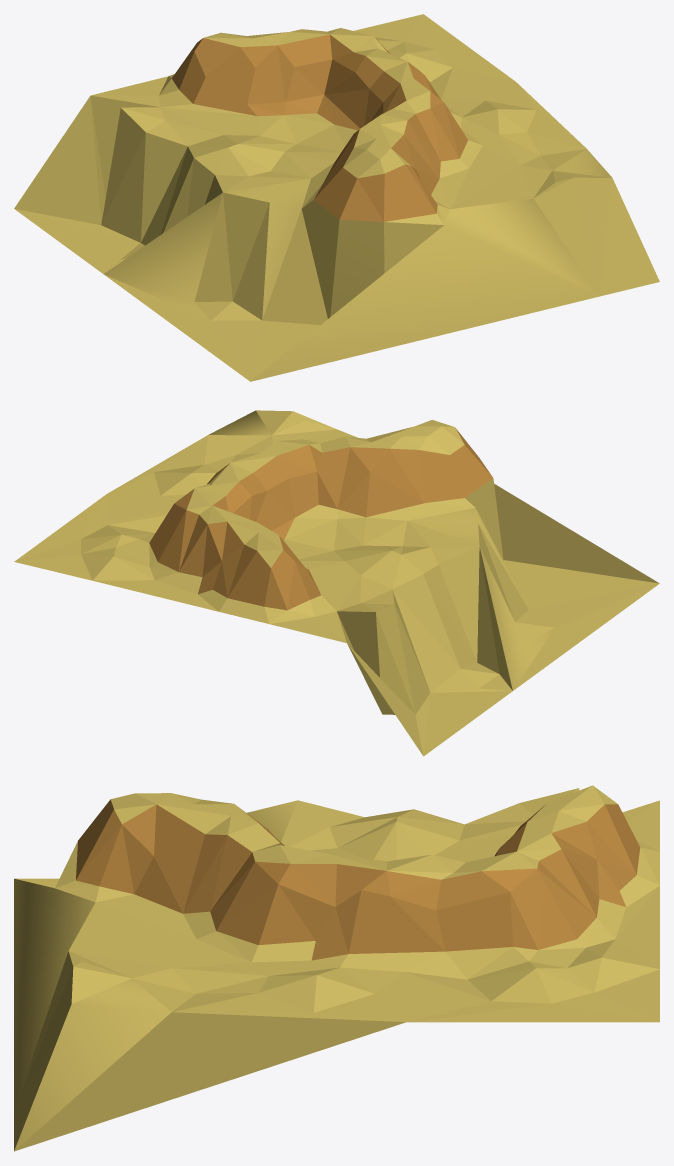
The model's file is Terrain_1.fbx.
3 views of the same model, one above another, from view 1: azimuth 30°, elevation 25°; view 2: azimuth 150°, elevation 25°; view 3: azimuth 270°, elevation 25° (orthographic). The views are drawn at different scales.
Parts seen in each view (by area): view 1: Terrain_1; view 2: Terrain_1; view 3: Terrain_1.
Part boxes in pixels (bbox=[...]): Terrain_1: bbox=[14, 14, 659, 381]; Terrain_1: bbox=[14, 410, 659, 756]; Terrain_1: bbox=[14, 785, 659, 1151].
Size of the model in its own units: 2000 by 697 by 2000.
